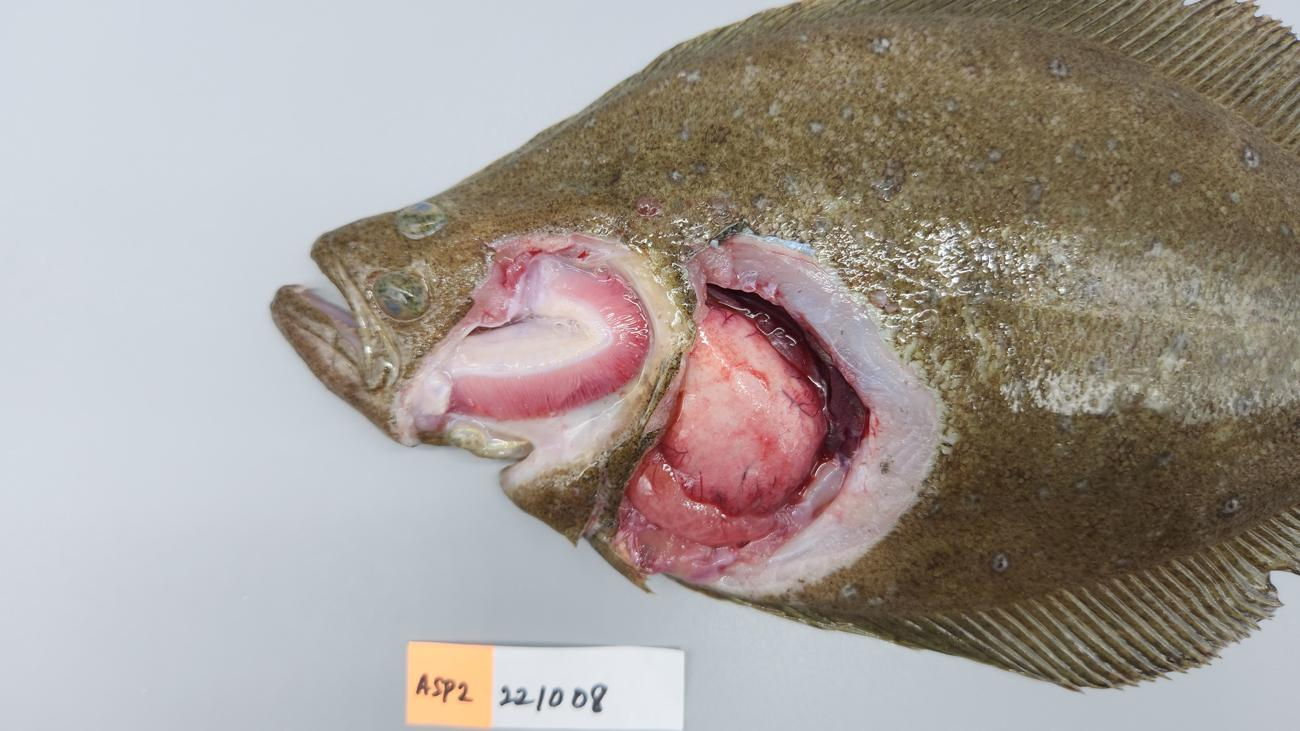SPGIP: (448, 261, 649, 421)
